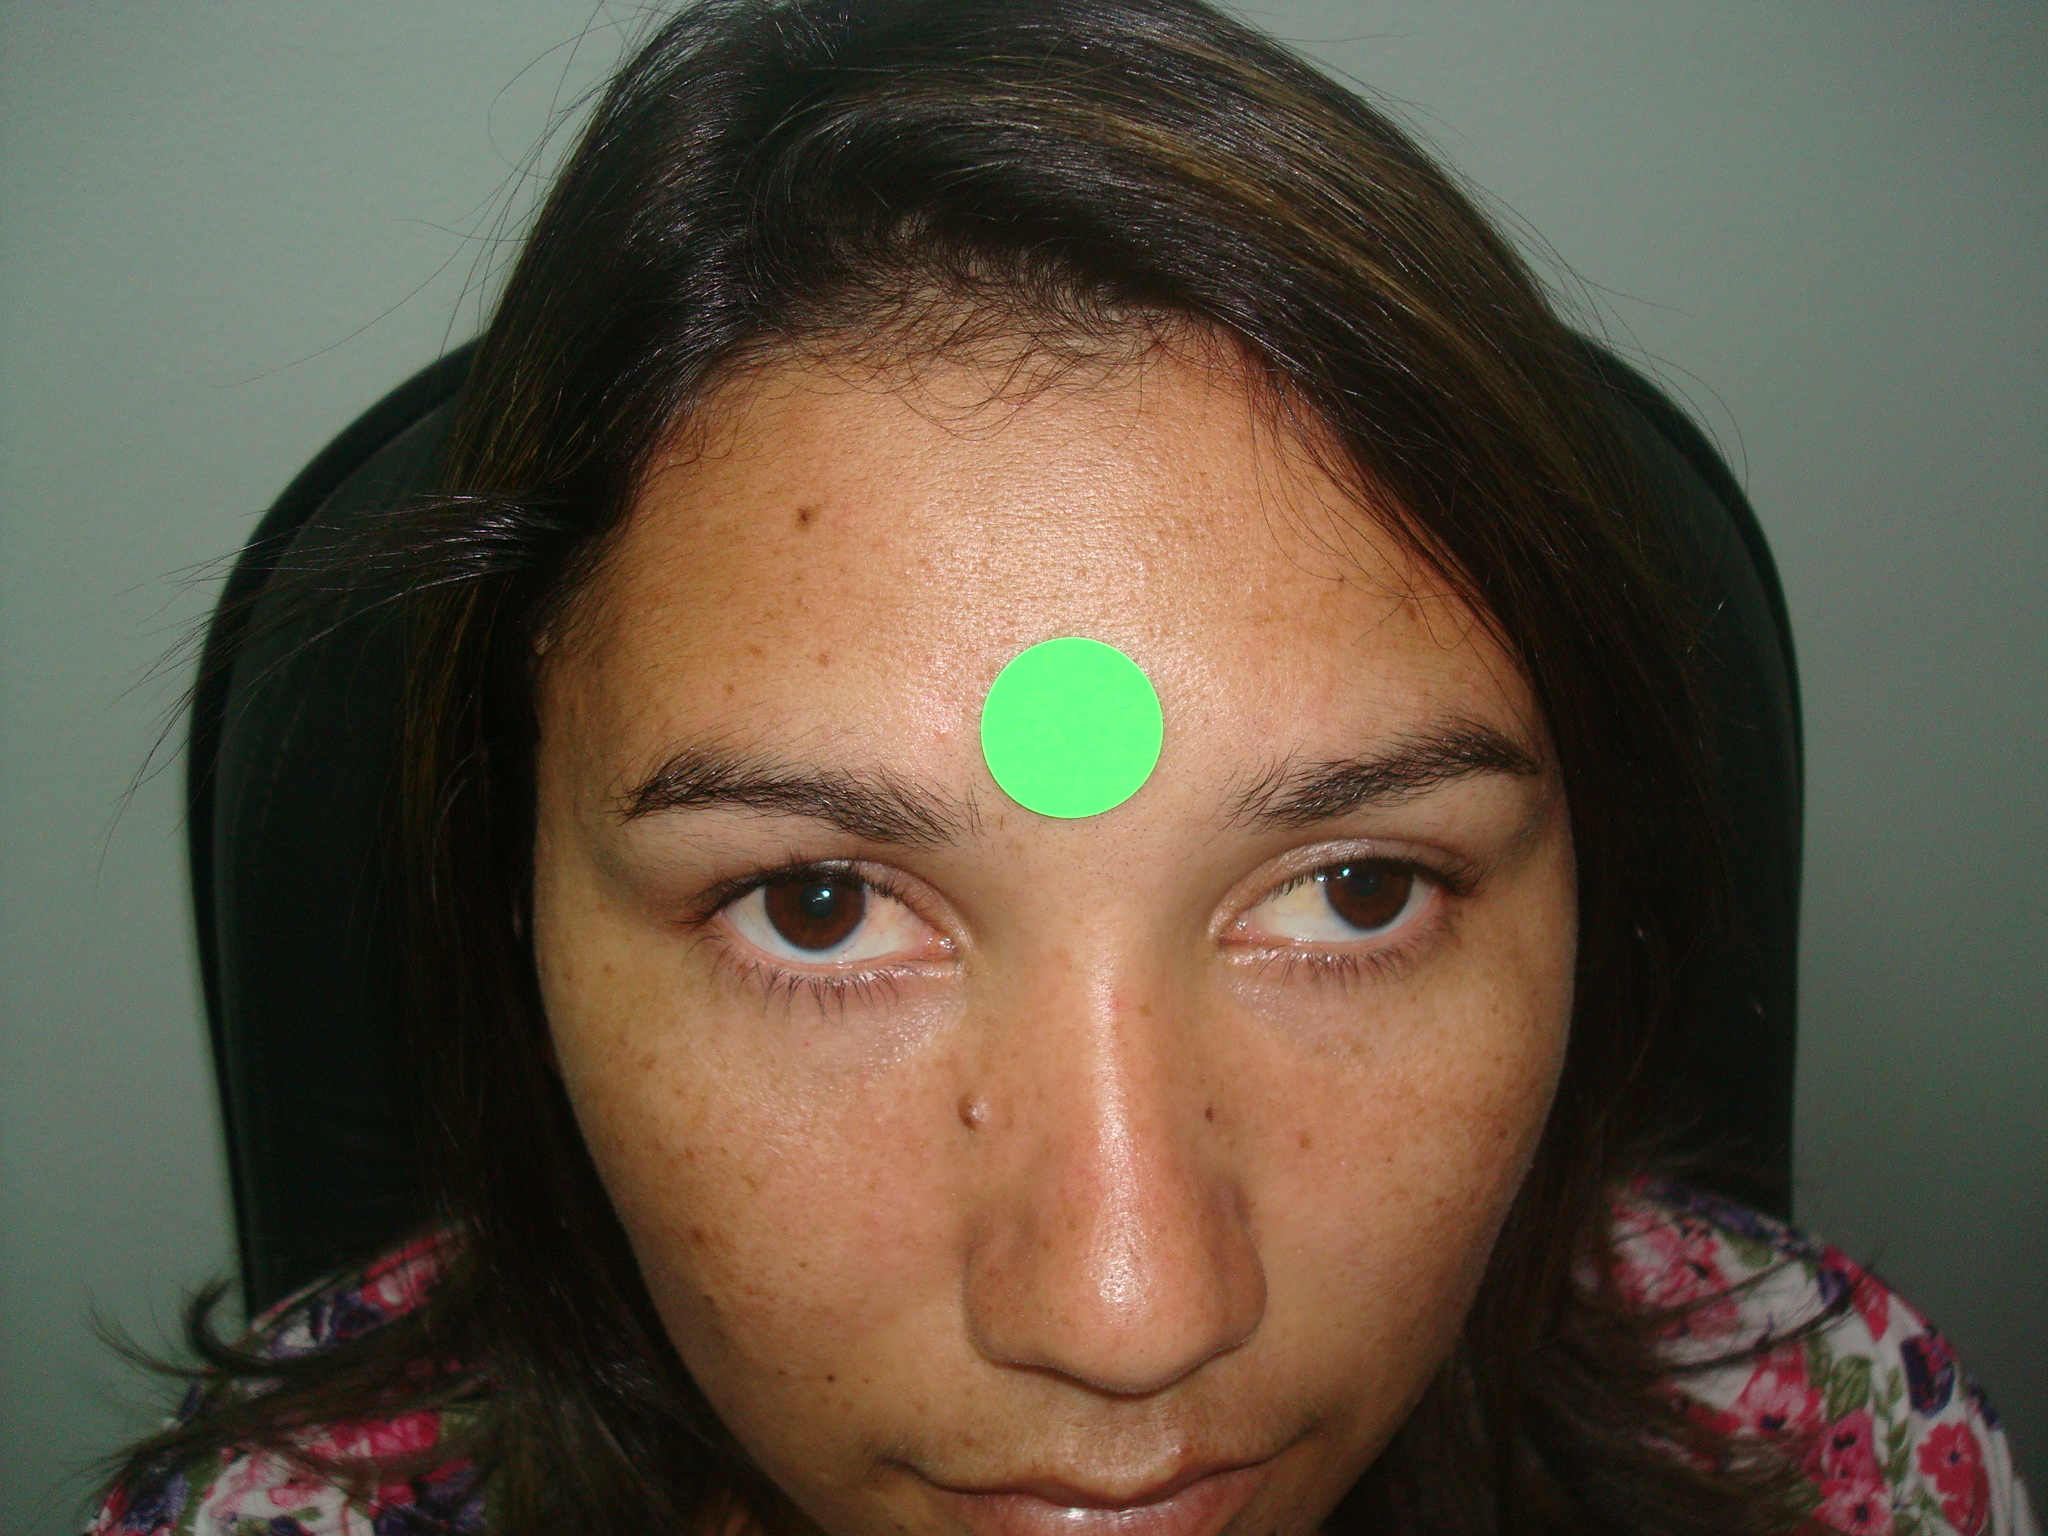flash: (816, 884, 837, 904), (1340, 865, 1351, 879)
limbo: (768, 845, 864, 950), (1326, 839, 1409, 925)
